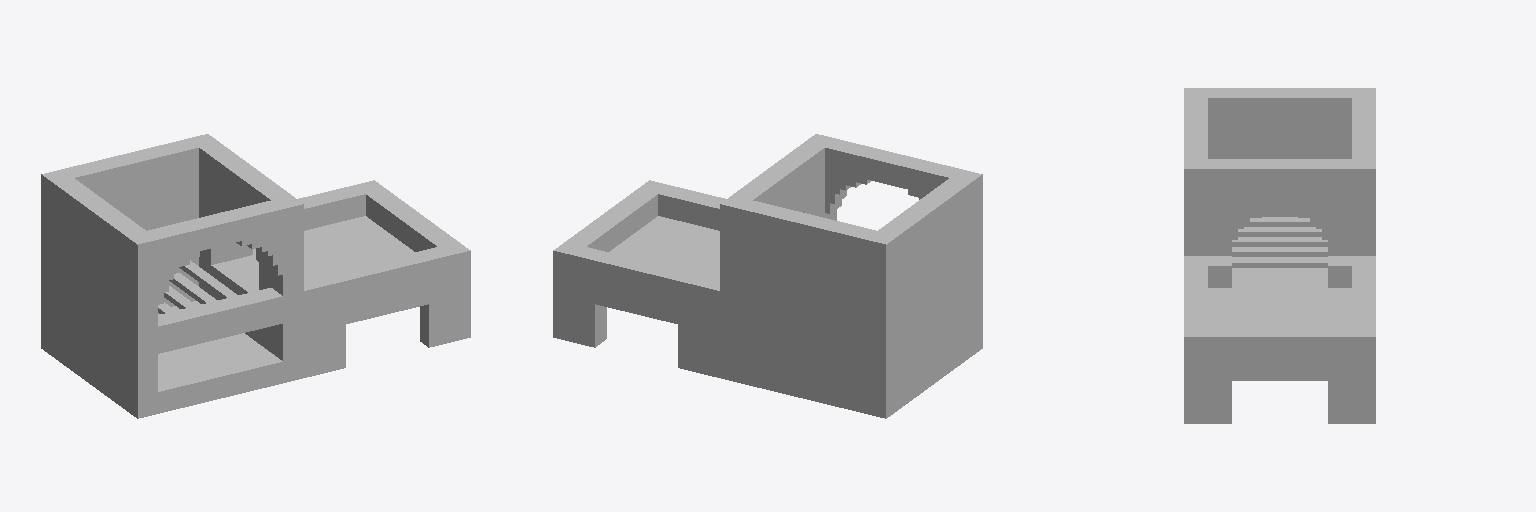
File: adamantium forge.obj
3 views of the same model, side by side, from view 1: azimuth 30°, elevation 25°; view 2: azimuth 150°, elevation 25°; view 3: azimuth 270°, elevation 25° (orthographic).
Parts seen in each view (by area): view 1: object 1; view 2: object 1; view 3: object 1.
Part boxes in pixels (x1,y1,x2,y2): object 1: (41,134,470,418); object 1: (553,134,982,418); object 1: (1184,88,1375,423).
Bounding box in the file's own units: 6.4 × 3.2 × 3.2.